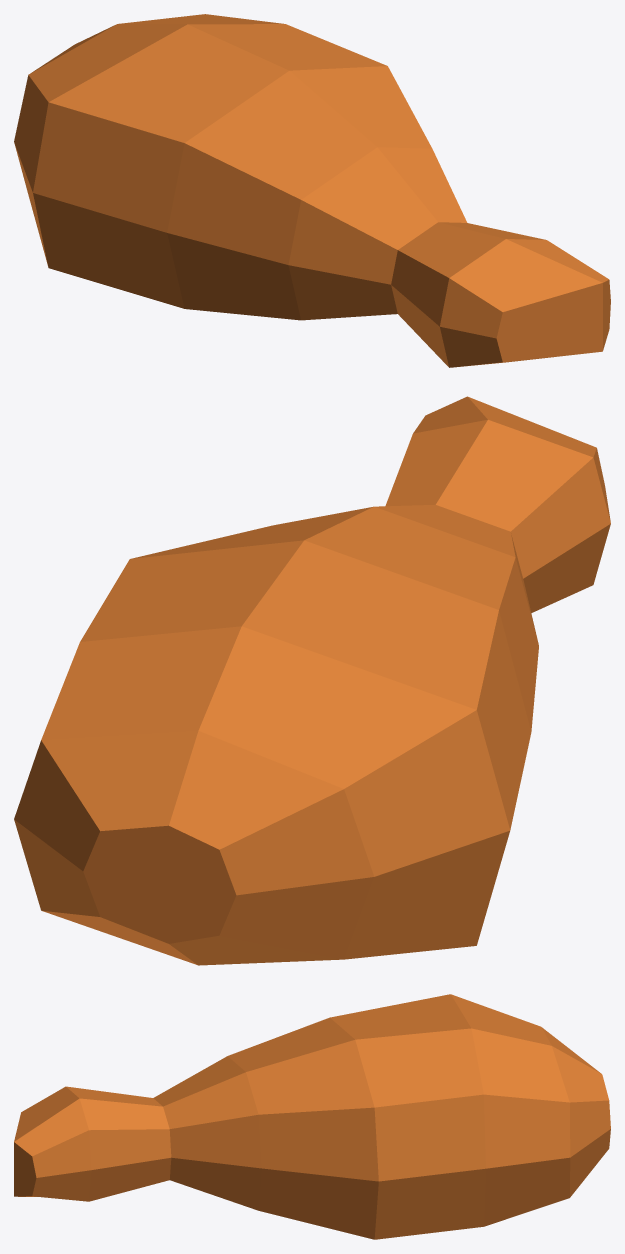
Rendered from FriedChicken.fbx.
3 views of the same model, one above another, from view 1: azimuth 30°, elevation 25°; view 2: azimuth 150°, elevation 25°; view 3: azimuth 270°, elevation 25° (orthographic). The views are drawn at different scales.
Parts seen in each view (by area): view 1: Friedchicken; view 2: Friedchicken; view 3: Friedchicken.
Part boxes in pixels (box(x1,y1,x2,y2)): Friedchicken: box(14, 14, 610, 367); Friedchicken: box(14, 396, 610, 965); Friedchicken: box(14, 994, 610, 1239).
Size of the model in its own units: 2.8 by 1.84 by 5.47.
Materials: 1 (1 with a texture image).
